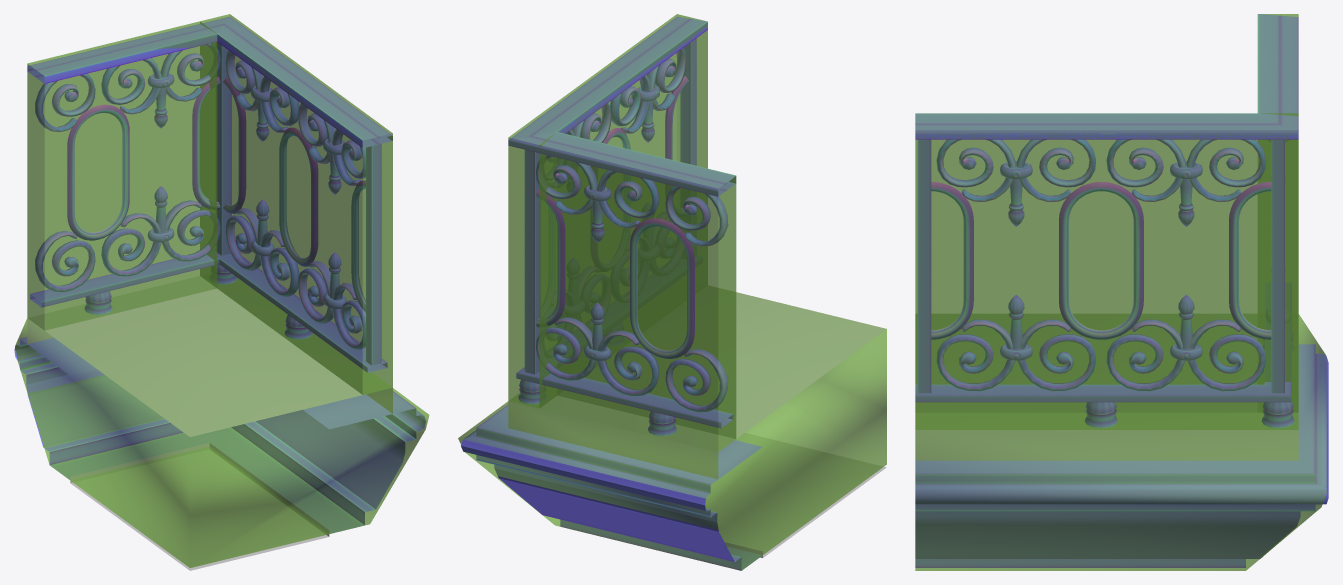
Rendered from F_md_Balcony_L_end_04.fbx.
3 renders of one model, left to right at view 1: azimuth 30°, elevation 25°; view 2: azimuth 150°, elevation 25°; view 3: azimuth 270°, elevation 25°, orthographic. The views are drawn at different scales.
Parts seen in each view (by area): view 1: F_md_Balcony_L_end_04_LOD0, F_md_Balcony_L_end_04_col_01, F_md_Balcony_L_end_04_col_02, F_md_Balcony_L_end_04_col_03; view 2: F_md_Balcony_L_end_04_LOD0, F_md_Balcony_L_end_04_col_03, F_md_Balcony_L_end_04_col_01, F_md_Balcony_L_end_04_col_02; view 3: F_md_Balcony_L_end_04_col_02, F_md_Balcony_L_end_04_LOD0, F_md_Balcony_L_end_04_col_01, F_md_Balcony_L_end_04_col_03.
Boxes of the visible parts, <box> form: F_md_Balcony_L_end_04_LOD0: <box>14,16,425,570</box>; F_md_Balcony_L_end_04_col_01: <box>15,276,429,567</box>; F_md_Balcony_L_end_04_col_02: <box>200,14,392,394</box>; F_md_Balcony_L_end_04_col_03: <box>27,21,217,330</box>; F_md_Balcony_L_end_04_LOD0: <box>461,17,886,570</box>; F_md_Balcony_L_end_04_col_03: <box>539,132,736,451</box>; F_md_Balcony_L_end_04_col_01: <box>458,292,886,570</box>; F_md_Balcony_L_end_04_col_02: <box>508,14,707,408</box>; F_md_Balcony_L_end_04_col_02: <box>915,113,1298,429</box>; F_md_Balcony_L_end_04_LOD0: <box>915,14,1328,567</box>; F_md_Balcony_L_end_04_col_01: <box>915,314,1326,570</box>; F_md_Balcony_L_end_04_col_03: <box>1257,14,1298,412</box>.
Size of what is drawn, in the model's own units: 95.67 by 148 by 122.
